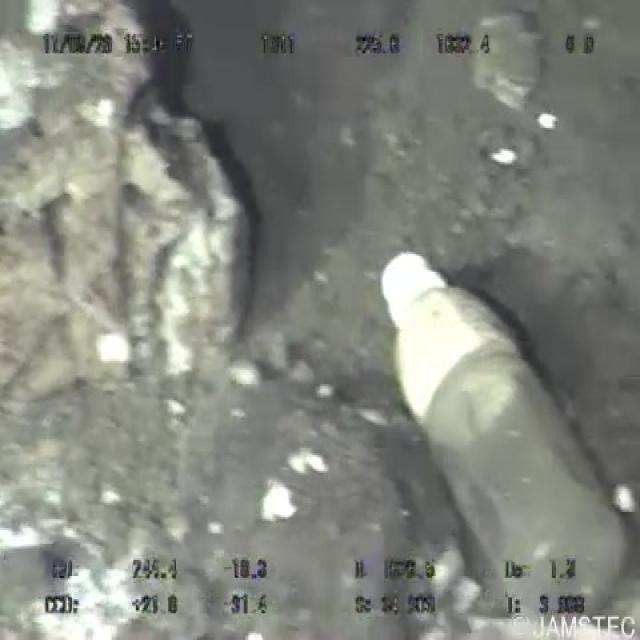plastic: (374, 243, 634, 617)
